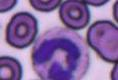N: (32, 29, 90, 80)
